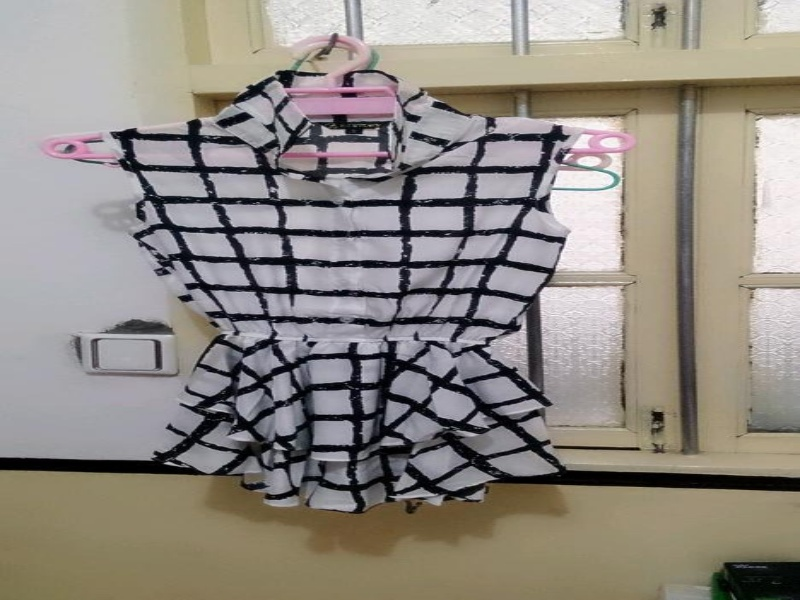vest_dress: (104, 64, 590, 517)
